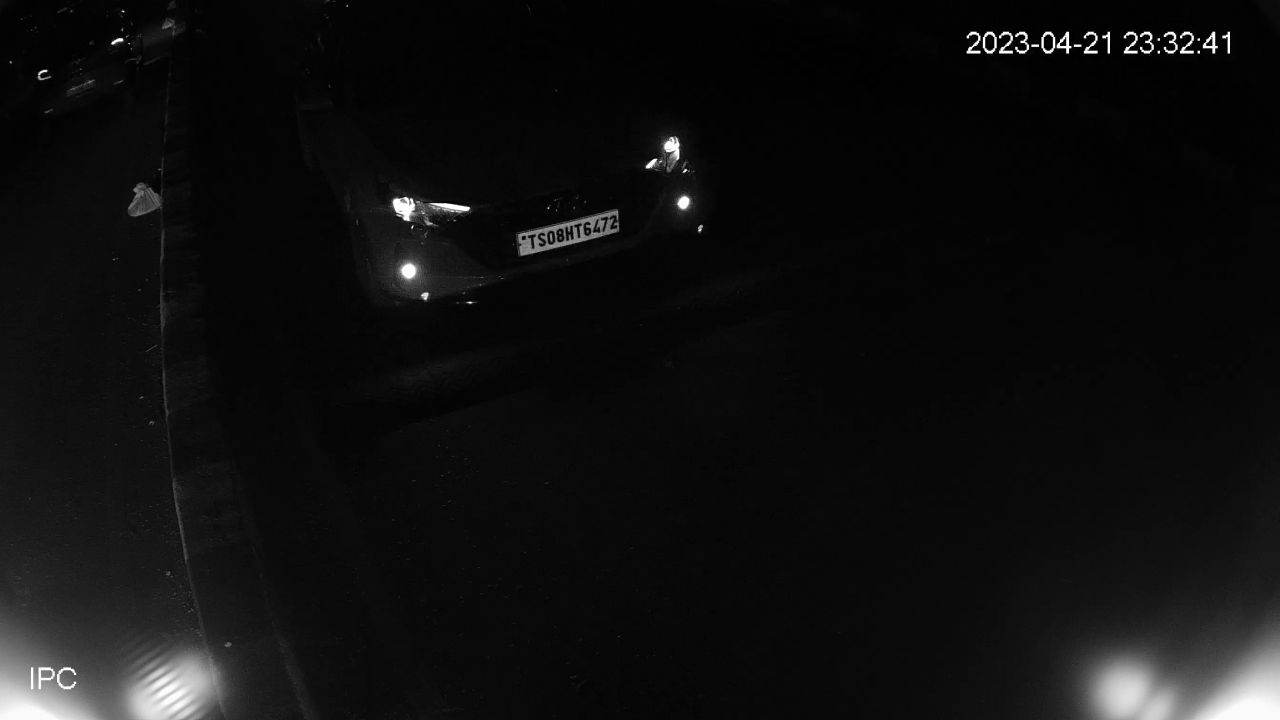license_plate: (512, 202, 626, 260)
